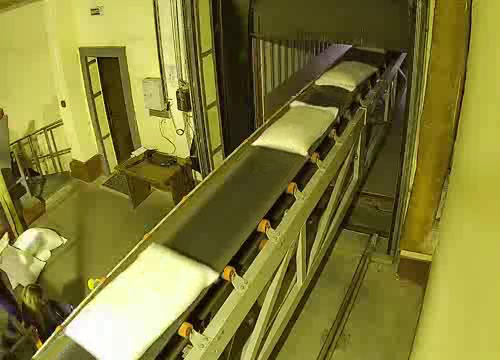bag: (60, 238, 226, 360), (250, 101, 344, 158), (311, 59, 382, 94), (350, 41, 392, 56)
